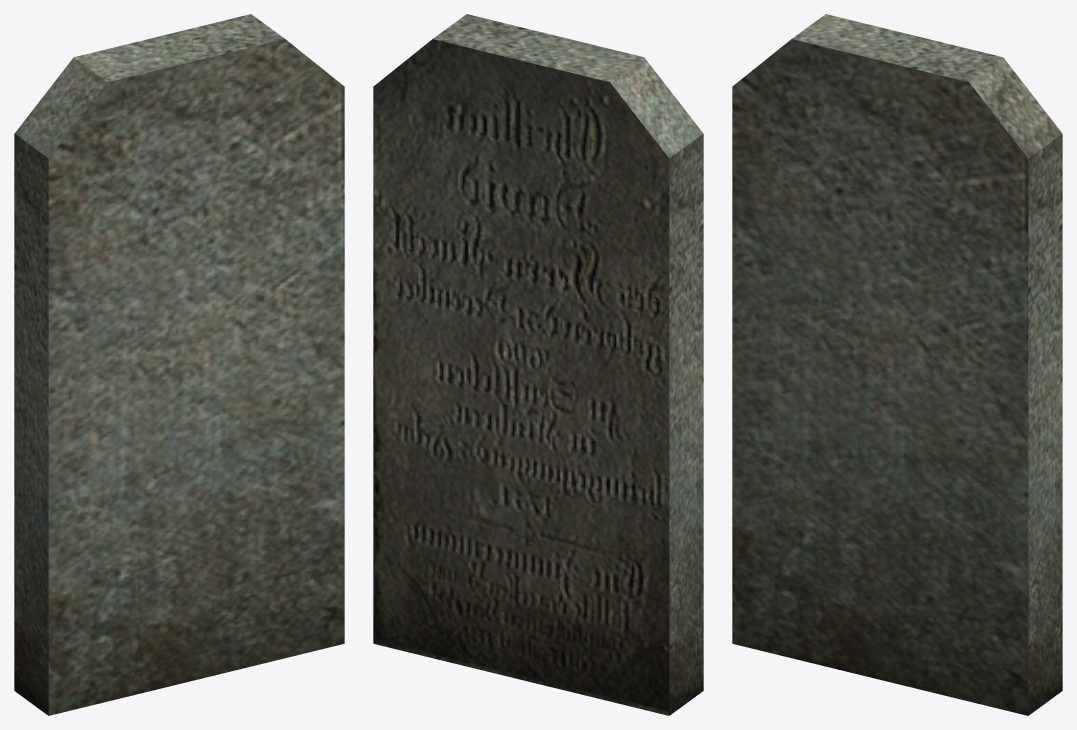
File: tombstone_sm_02.fbx
3 views of the same model, side by side, from view 1: azimuth 30°, elevation 25°; view 2: azimuth 150°, elevation 25°; view 3: azimuth 330°, elevation 25° (orthographic).
Parts seen in each view (by area): view 1: mesh_0; view 2: mesh_0; view 3: mesh_0.
Boxes of the visible parts, x1=… form: mesh_0: x1=14, y1=14, x2=344, y2=715; mesh_0: x1=373, y1=14, x2=703, y2=715; mesh_0: x1=732, y1=14, x2=1062, y2=715.
Bounding box in the file's own units: 50 × 100 × 10.
1 material, 1 textured.
